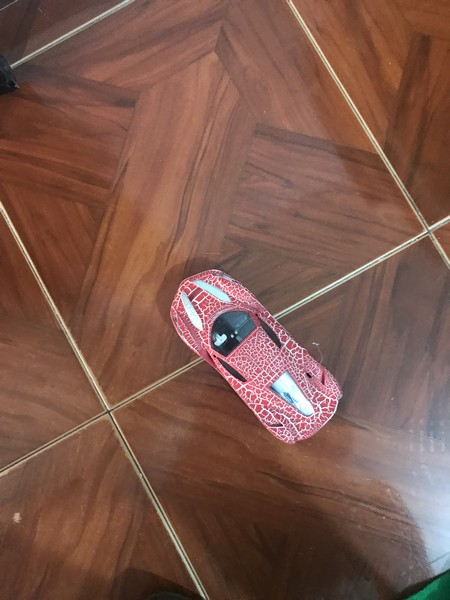RC: (167, 267, 347, 447)
